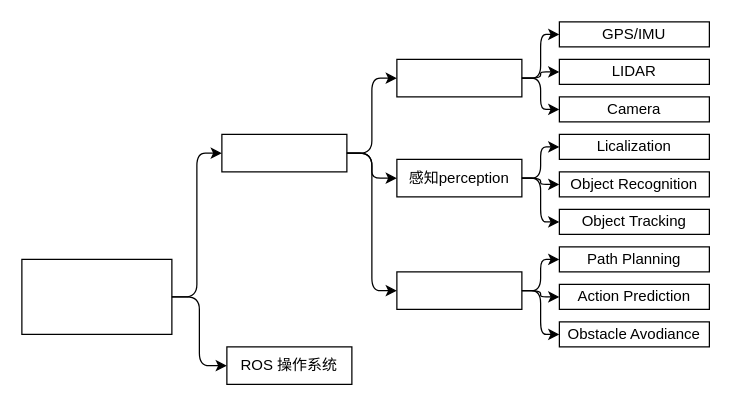
Image size: 731x406. Some labels were removed from this diagram. The shapes that lost their labels are listed below. From the top down, each one's box as (x1, y1, x2, y2) in pixels, then its label:
(396, 58, 522, 97): 传感sensing
(221, 133, 347, 172): 算法
(21, 258, 172, 334): 自动驾驶技术
(396, 271, 522, 309): 决策decision
